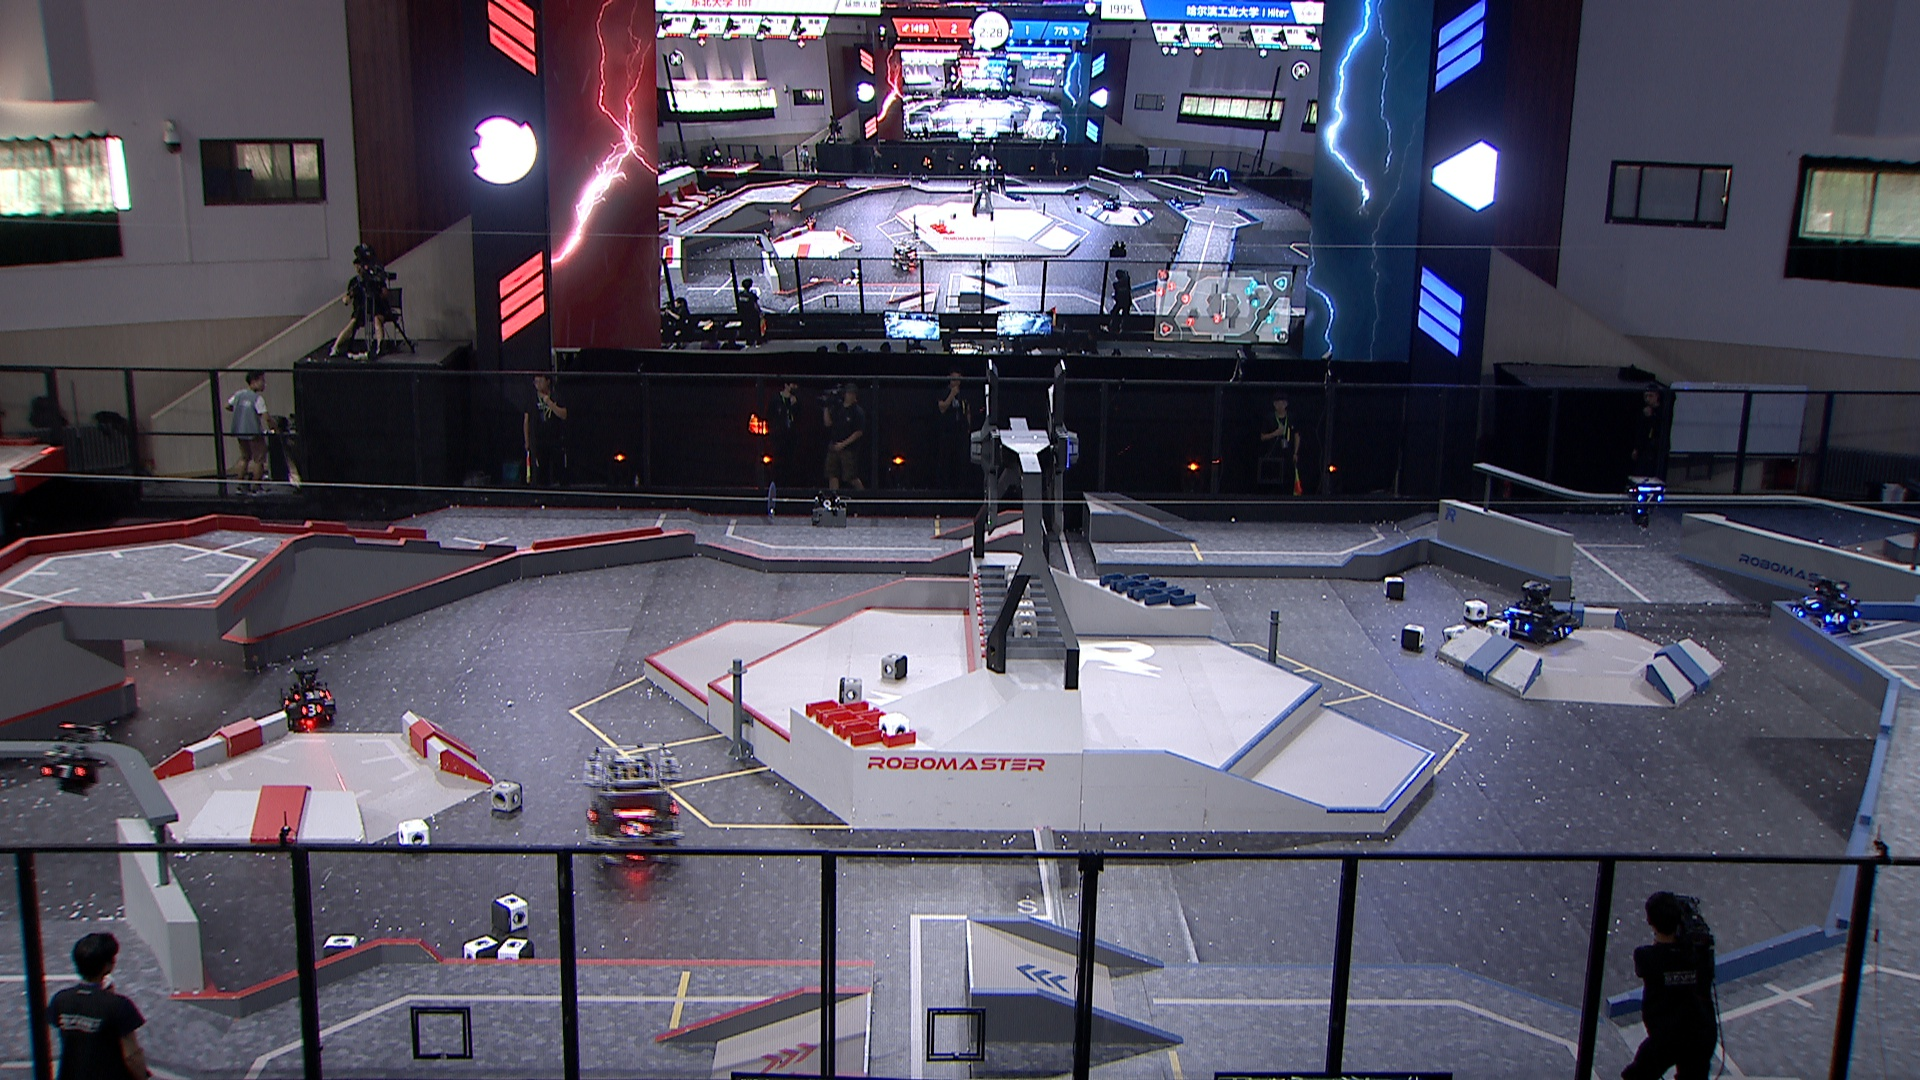armor: (40, 764, 90, 783), (621, 820, 650, 839), (291, 688, 324, 702), (1636, 491, 1665, 505), (1505, 618, 1532, 633), (301, 703, 324, 717), (1826, 612, 1849, 626), (1803, 595, 1821, 611), (1551, 626, 1571, 638), (1789, 605, 1804, 618)
car: (579, 746, 688, 873), (1499, 579, 1584, 647), (1789, 576, 1865, 638), (280, 659, 338, 727)
ignore: (889, 239, 923, 272), (1204, 167, 1232, 193), (1101, 193, 1122, 211), (704, 185, 727, 200), (1168, 193, 1185, 210)
watcher: (36, 721, 113, 796), (1621, 475, 1667, 529)
